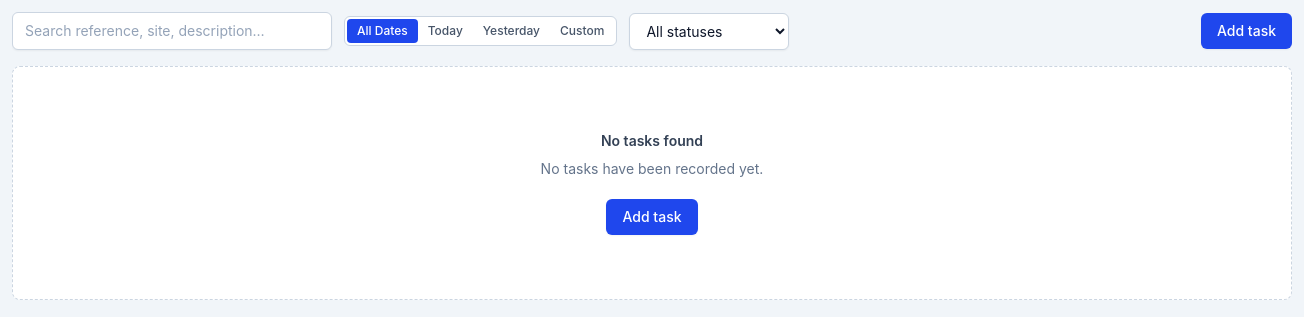
Test: TaskTable › shows an empty state that distinguishes filtered from unfiltered
Expected: the text "No tasks have been recorded yet." is shown, [541,159,763,179]
Type "nothing" into the search field named "Search tasks" at (172, 31), box [12,12,332,50]
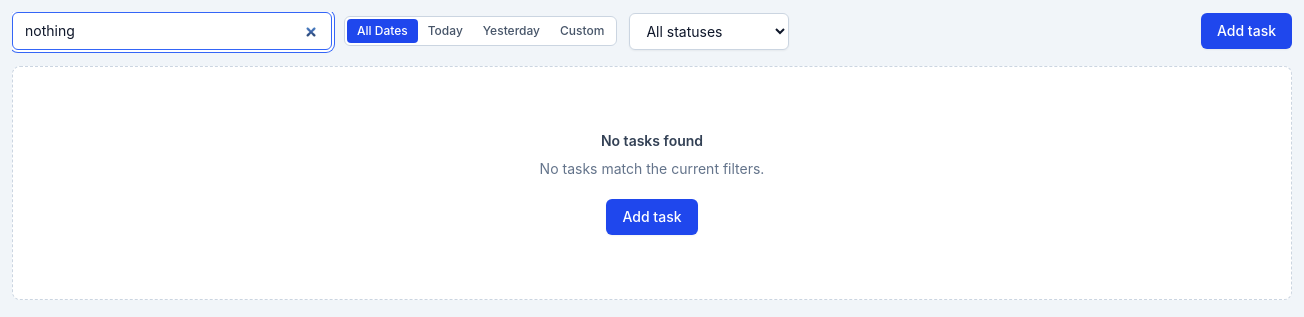
Expected: the text "No tasks match the current filters." is shown, [540,159,764,179]
